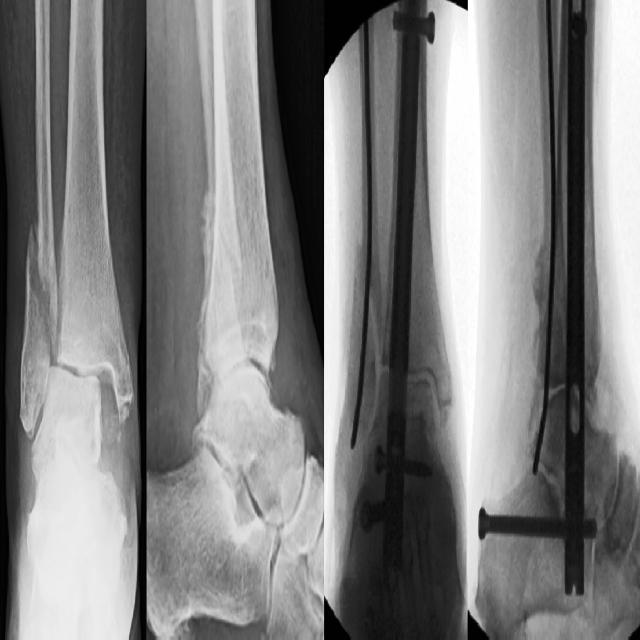Fracture Dislocation: (8, 217, 144, 423)
